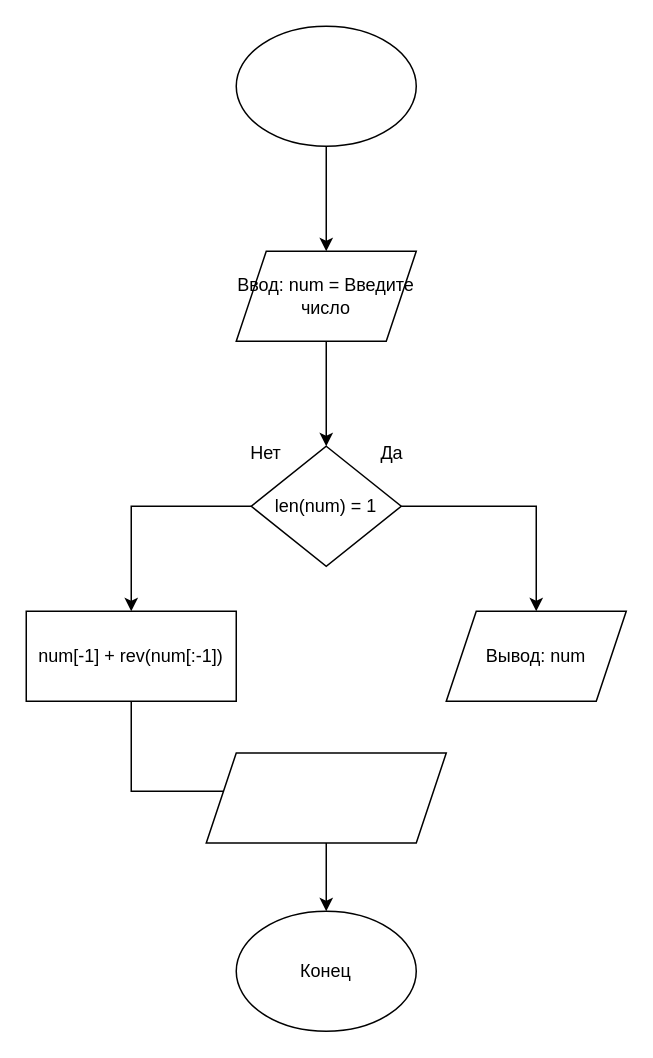
The diagram is 653 pixels wide and 1058 high, and some of its shapes have lost their labels. The shapes that lost their labels are listed below. From the top down, each one's centre as x and y in pixels, then its label:
(325,85): rev(num)
(325,797): Вывод: Ваше число в обратном порядке num
